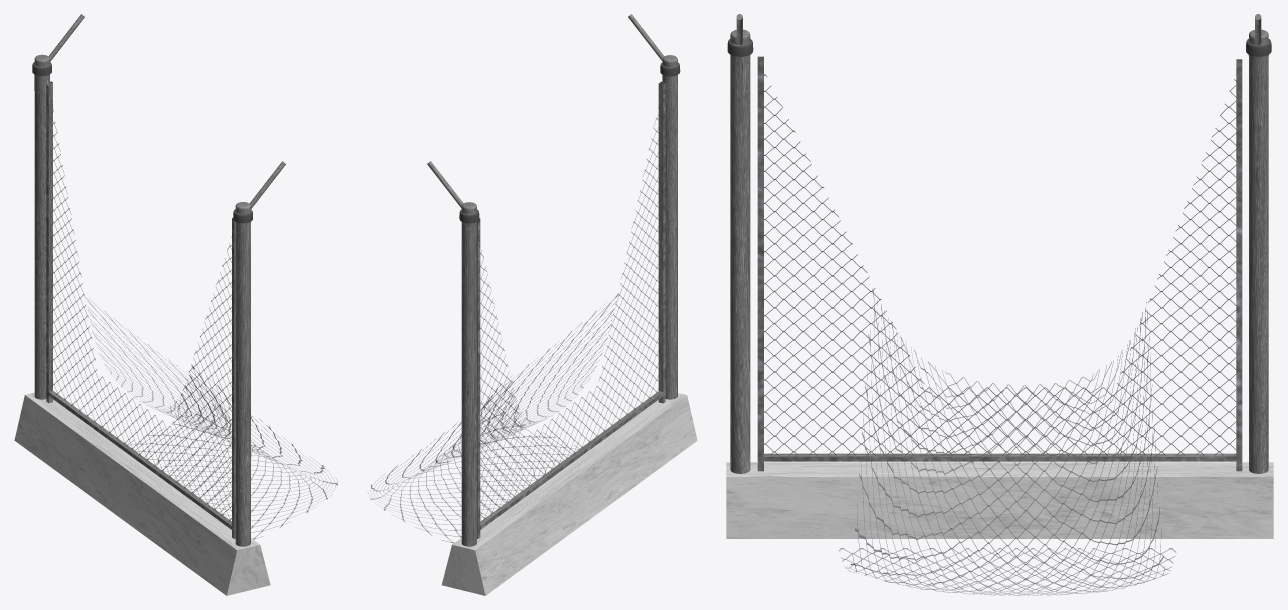
File: ultra_brocken_pubg_barrier_change_colour.glb
3 renders of one model, left to right at view 1: azimuth 30°, elevation 25°; view 2: azimuth 150°, elevation 25°; view 3: azimuth 270°, elevation 25°, orthographic. The views are drawn at different scales.
Parts seen in each view (by area): view 1: pCube1, polySurface1, pCylinder1, polySurface2, pCube3, pCylinder4; view 2: pCube1, polySurface1, pCylinder4, pCube3, polySurface2, pCylinder1; view 3: pCube1, polySurface2, polySurface1, pCube3, pCylinder1, pCylinder4.
Part boxes in pixels (<box>): pCube1: <box>14,392,270,595</box>; polySurface1: <box>51,100,231,522</box>; pCylinder1: <box>233,202,252,546</box>; polySurface2: <box>86,298,337,539</box>; pCube3: <box>46,81,235,538</box>; pCylinder4: <box>32,54,51,399</box>; pCube1: <box>441,393,697,595</box>; polySurface1: <box>480,96,660,520</box>; pCylinder4: <box>459,202,479,546</box>; pCube3: <box>477,81,665,538</box>; polySurface2: <box>370,293,618,543</box>; pCylinder1: <box>660,55,680,399</box>; pCube1: <box>726,462,1273,538</box>; polySurface2: <box>839,288,1175,595</box>; polySurface1: <box>764,74,1236,455</box>; pCube3: <box>757,56,1242,471</box>; pCylinder1: <box>727,29,753,473</box>; pCylinder4: <box>1246,29,1271,473</box>.
Bounding box in the file's own units: 11.21 × 27.75 × 25.69.
Materials: 4 (3 with a texture image).
